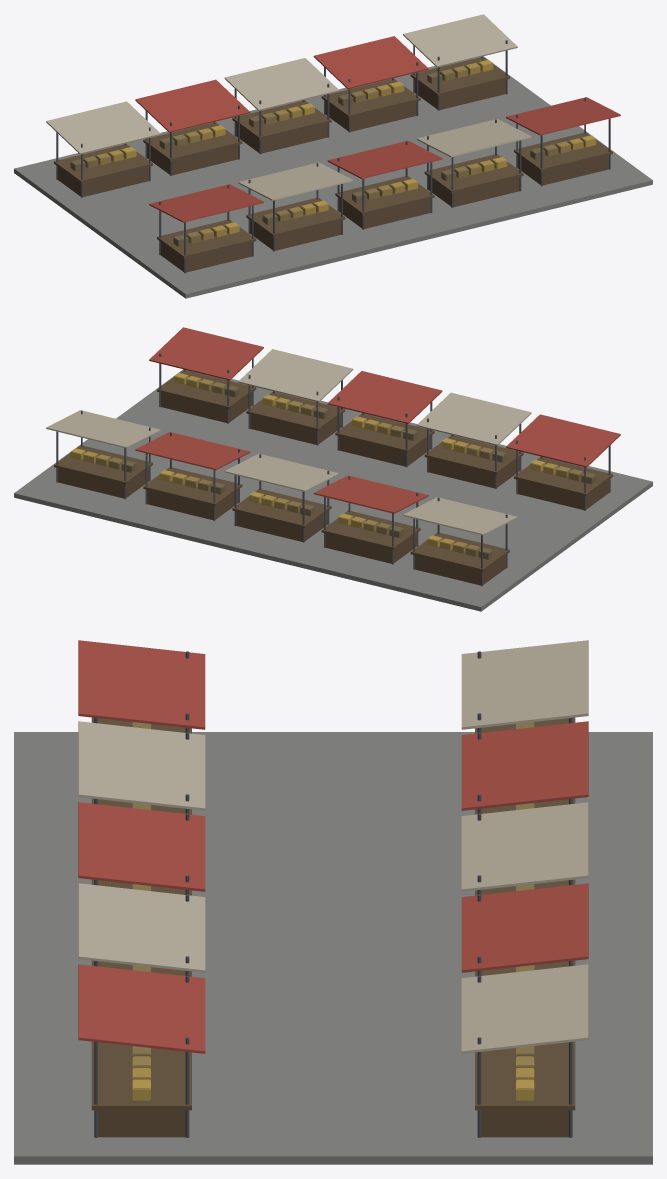
File: market.glb
3 renders of one model, top to bottom at view 1: azimuth 30°, elevation 25°; view 2: azimuth 150°, elevation 25°; view 3: azimuth 270°, elevation 25°, orthographic. The views are drawn at different scales.
Parts seen in each view (by area): view 1: floor, awning.007, awning.009, awning.005, awning.008, awning.006, awning.001, awning.004, awning, awning.002, awning.003, counter_top.005 (+19 smaller); view 2: floor, awning.002, awning.004, awning, awning.003, awning.001, awning.006, awning.009, awning.005, awning.007, awning.008, counter_top (+19 smaller); view 3: floor, awning, awning.001, awning.002, awning.004, awning.005, awning.006, awning.007, awning.009, awning.003, awning.008, counter_top.004 (+3 smaller).
Part boxes in pixels (x1,y1,x2,y2): floor: (14,56,652,298); awning.007: (224,58,339,110); awning.009: (403,14,517,67); awning.005: (46,101,160,154); awning.008: (313,36,428,89); awning.006: (135,79,250,132); awning.001: (238,162,353,200); awning.004: (506,97,620,135); awning: (149,184,263,222); awning.002: (327,140,442,178); awning.003: (417,119,531,157); counter_top.005: (54,144,152,183); floor: (14,369,652,611); awning.002: (327,371,442,423); awning.004: (149,327,263,380); awning: (506,414,620,467); awning.003: (238,349,353,402); awning.001: (416,392,531,445); awning.006: (313,475,428,513); awning.009: (46,410,160,448); awning.005: (403,497,517,535); awning.007: (224,453,339,491); awning.008: (135,432,249,470); counter_top: (514,457,612,496); floor: (14,732,652,1164); awning: (78,640,205,729); awning.001: (78,721,205,810); awning.002: (78,802,205,891); awning.004: (78,964,205,1053); awning.005: (461,640,588,729); awning.006: (461,721,588,810); awning.007: (461,802,588,891); awning.009: (461,964,588,1053); awning.003: (78,883,205,972); awning.008: (461,883,588,972); counter_top.004: (91,1041,191,1110).
Size of what is drawn, in the model's own units: 22 by 2.75 by 14.
